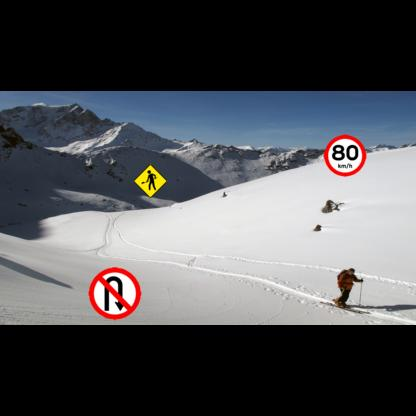A-24: (133, 164, 167, 198)
R-19: (324, 135, 366, 177)
